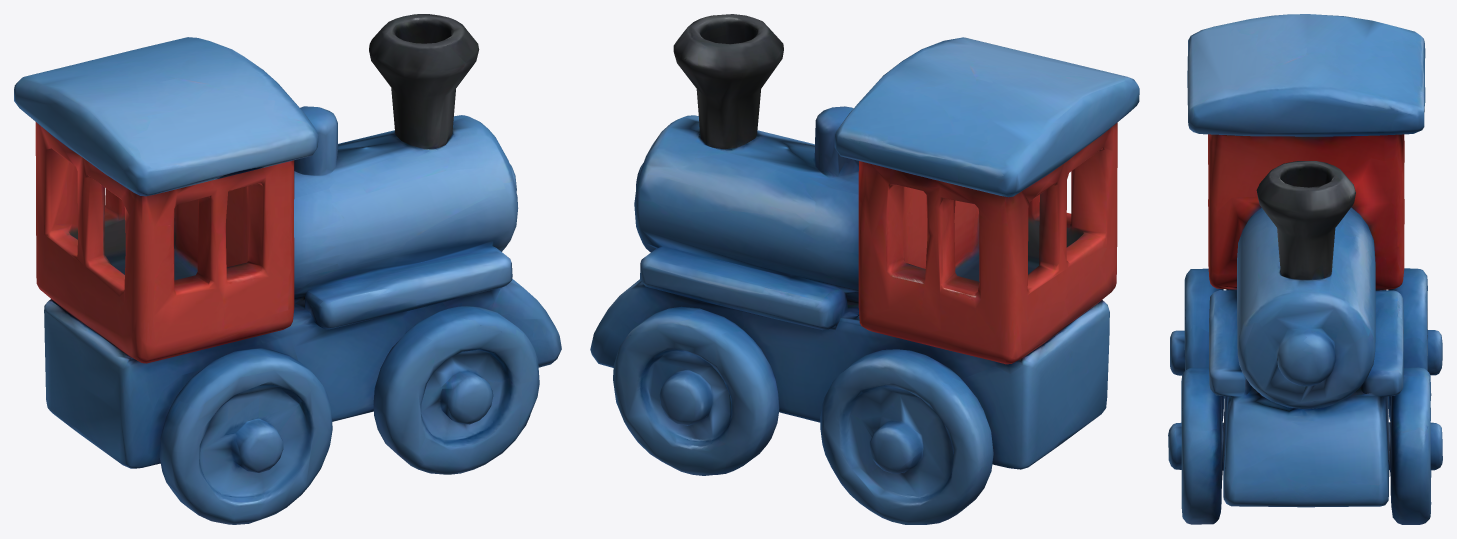
The model's file is locomotive.glb.
The picture shows the model from 3 angles, left to right: view 1: azimuth 30°, elevation 25°; view 2: azimuth 150°, elevation 25°; view 3: azimuth 270°, elevation 25°; orthographic projection. The views are drawn at different scales.
Visible parts, largest first — view 1: tripo_node_07b64aa6-1393-4657-a705-5d2be3ec91b3; view 2: tripo_node_07b64aa6-1393-4657-a705-5d2be3ec91b3; view 3: tripo_node_07b64aa6-1393-4657-a705-5d2be3ec91b3.
Part boxes in pixels (x1,y1,x2,y2): tripo_node_07b64aa6-1393-4657-a705-5d2be3ec91b3: (14,14,561,524); tripo_node_07b64aa6-1393-4657-a705-5d2be3ec91b3: (590,14,1139,524); tripo_node_07b64aa6-1393-4657-a705-5d2be3ec91b3: (1168,14,1442,524).
Bounding box in the file's own units: 0.9998 × 0.8538 × 0.5839.
Materials: 1 (1 with a texture image).
